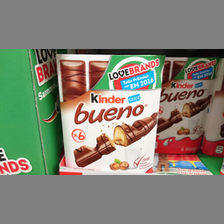chocolate: (53, 54, 165, 172), (156, 56, 216, 154)
